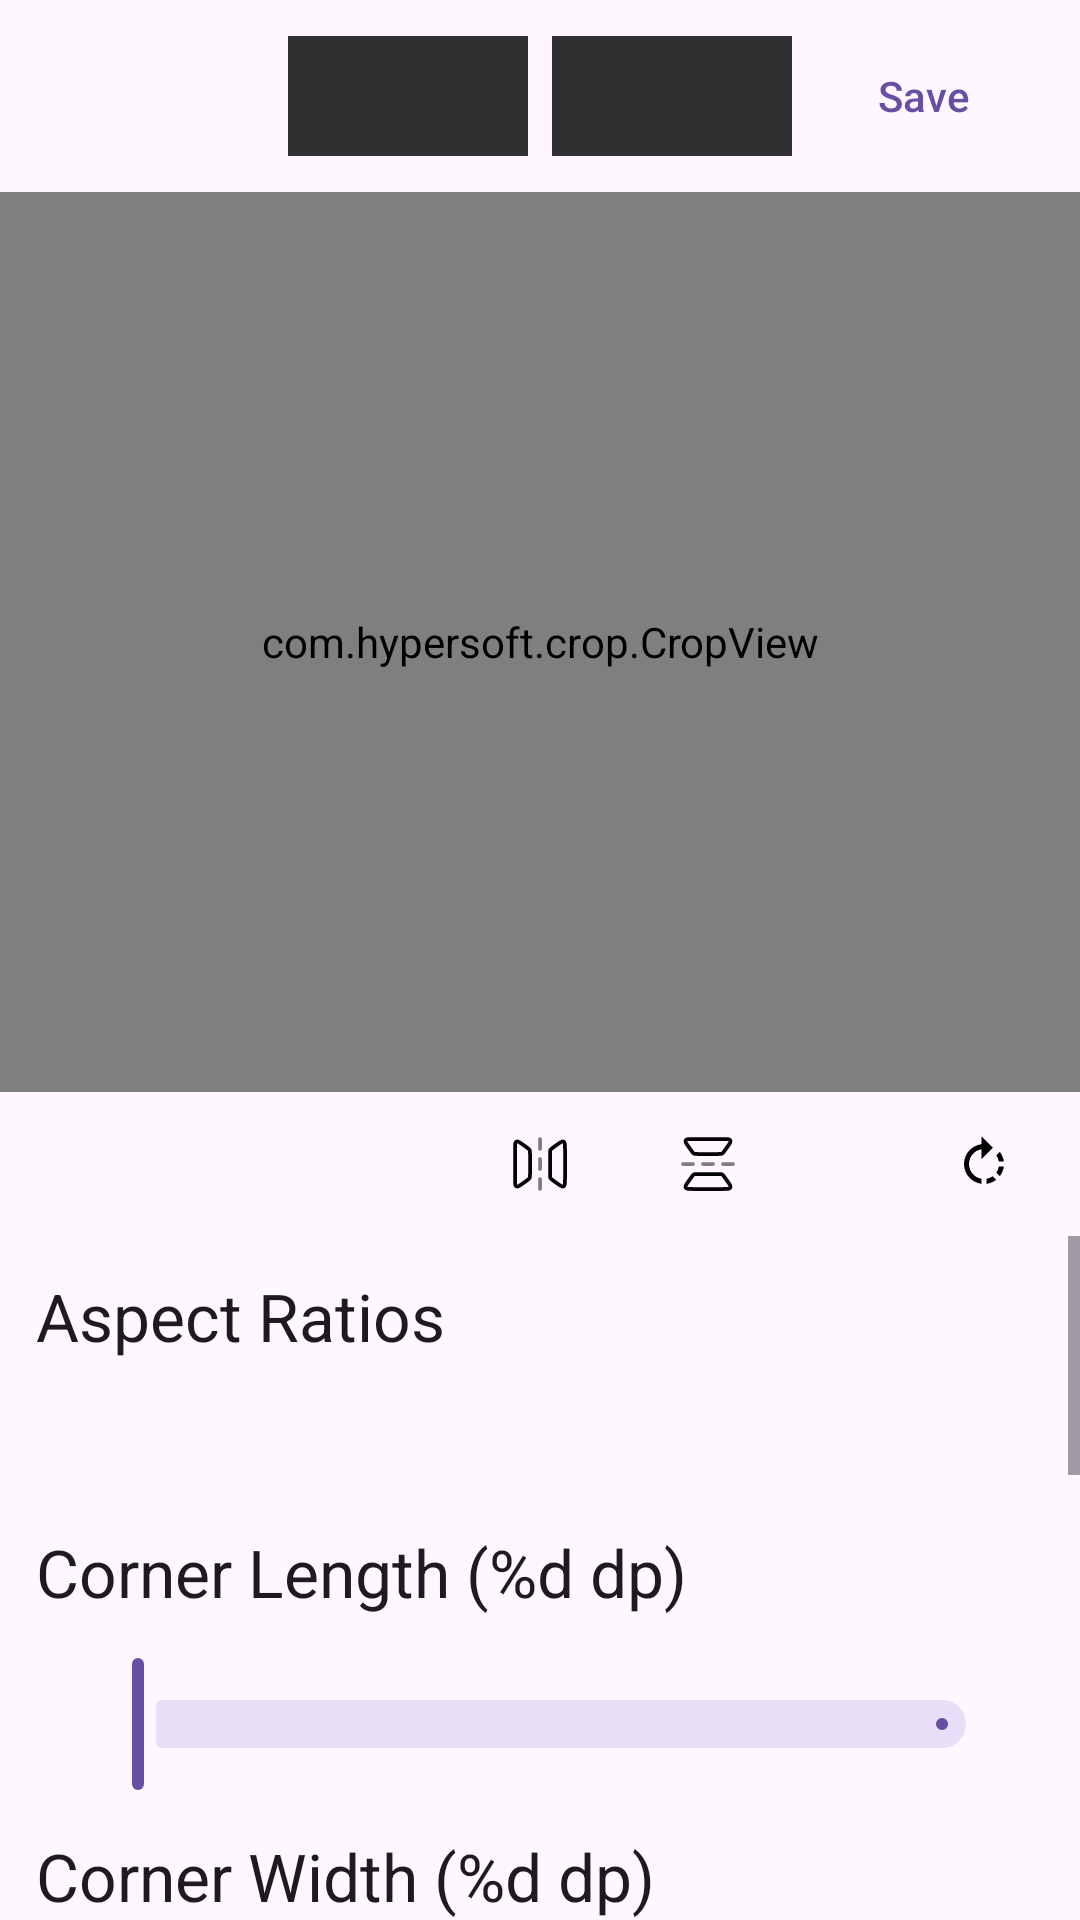

Point at icon controls on the screen. Image size 1080w x 1920h, points as [x,y].
flip horizontally: [540,1164]
flip vertically: [708,1164]
rotate right: [984,1160]
